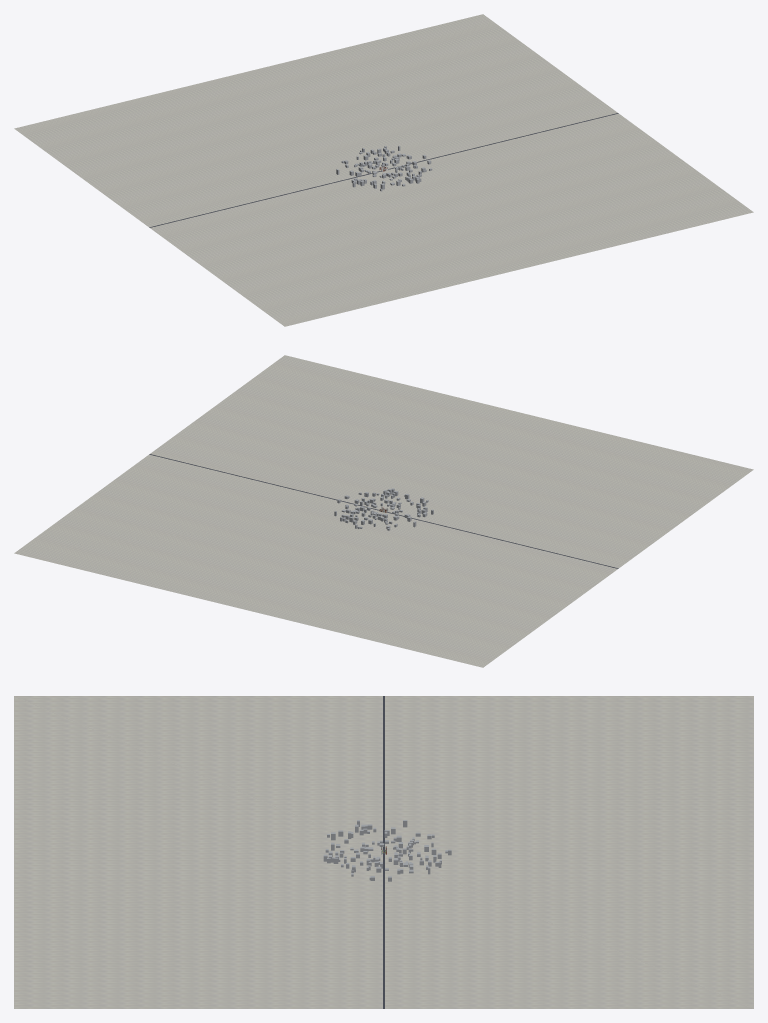
The model's file is r3d_place_rainy_street.glb.
The picture shows the model from 3 angles, top to bottom: view 1: azimuth 30°, elevation 25°; view 2: azimuth 150°, elevation 25°; view 3: azimuth 270°, elevation 25°; orthographic projection. The views are drawn at different scales.
Parts seen in each view (by area): view 1: backdrop, backdrop_town_far, backdrop_road_ground; view 2: backdrop, backdrop_town_far, backdrop_road_ground; view 3: backdrop, backdrop_town_far, backdrop_road_ground.
Boxes of the visible parts, bbox=[...] form: backdrop: bbox=[14, 14, 753, 326]; backdrop_town_far: bbox=[336, 145, 432, 191]; backdrop_road_ground: bbox=[149, 113, 618, 227]; backdrop: bbox=[14, 355, 753, 667]; backdrop_town_far: bbox=[334, 488, 433, 530]; backdrop_road_ground: bbox=[149, 454, 618, 568]; backdrop: bbox=[14, 696, 753, 1008]; backdrop_town_far: bbox=[323, 820, 451, 881]; backdrop_road_ground: bbox=[383, 696, 384, 1008].
Size of what is drawn, in the model's own units: 3000 by 28.33 by 3000.
Materials: 23 (4 with a texture image).
